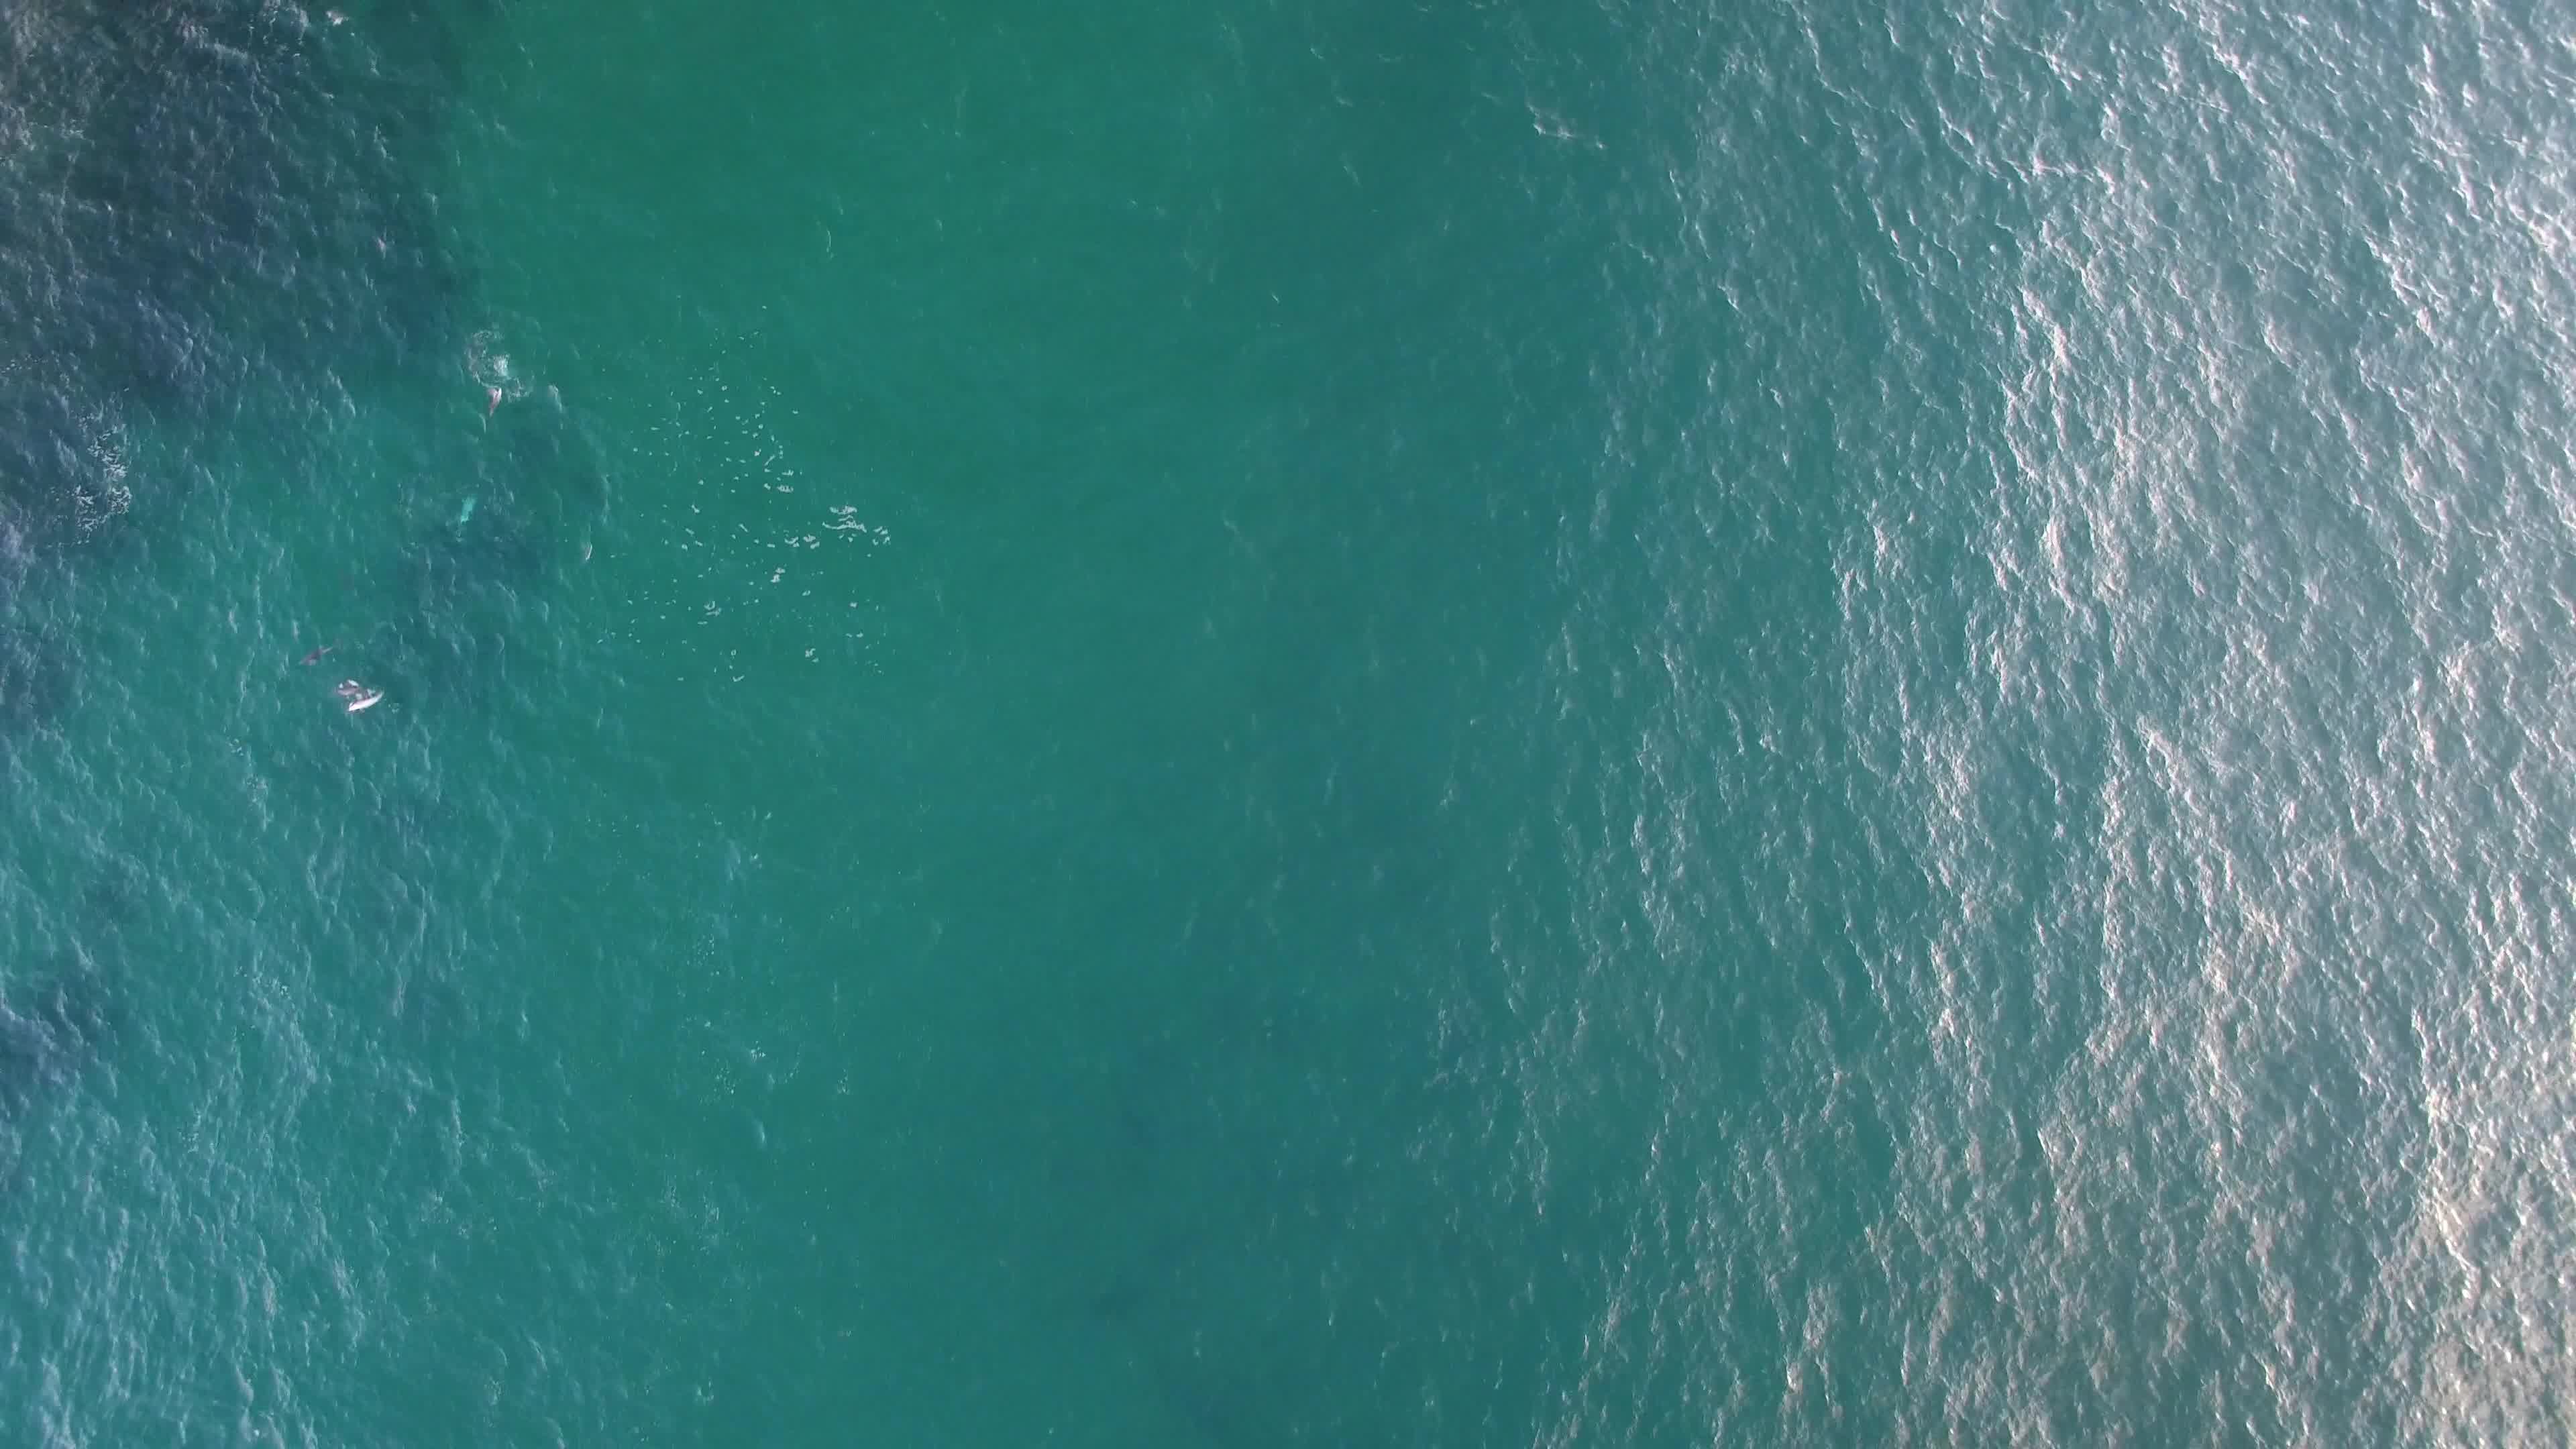dolphin: (322, 667, 389, 715), (285, 626, 350, 671), (471, 364, 515, 421)
